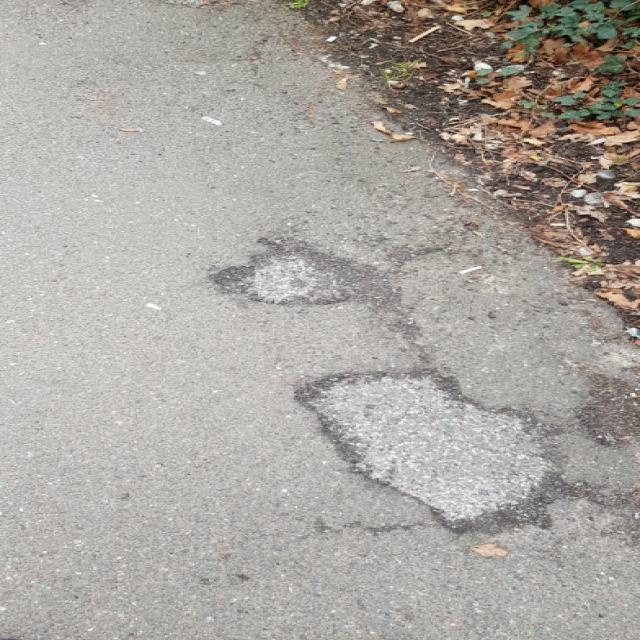pothole: (292, 366, 570, 537), (208, 238, 380, 306)
